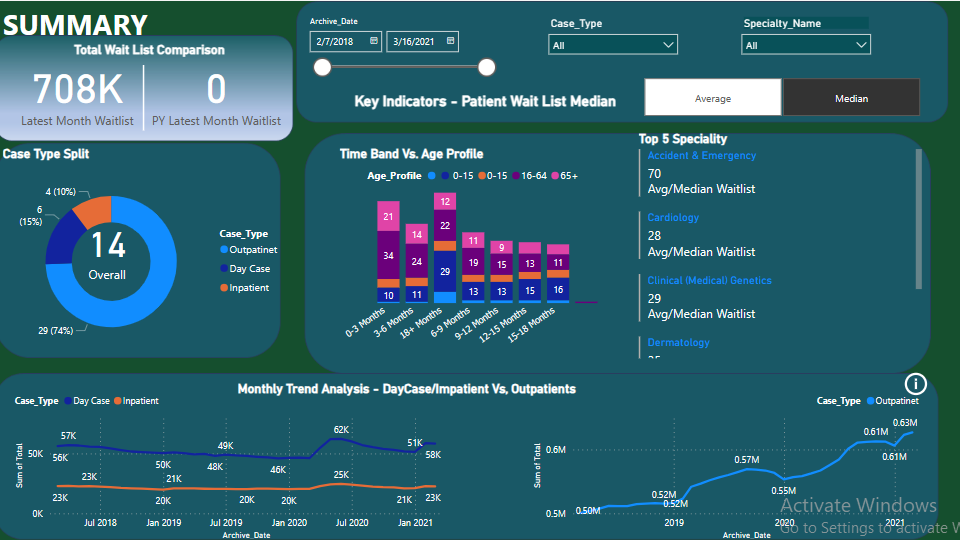

The dashboard page shown, as its layout file describes it:
{"tool":"powerbi","page":{"name":"Summary","canvas":[1280,720],"ordinal":0},"visuals":[{"type":"card","fields":{"Values":["All_Data.Latest Month Waitlist"]},"box":[0,48,208,144],"z":0},{"type":"card","fields":{"Values":["All_Data.PY Latest Month Waitlist"]},"box":[192,48,192,144],"z":1000},{"type":"slicer","fields":{"Values":["Calculation Method.Calc Method"]},"box":[832,96,416,64],"z":2000},{"type":"donutChart","title":"Case Type Split","fields":{"Category":["All_Data.Case_Type"],"Y":["All_Data.Avg/Median Waitlist"]},"box":[0,192,384,288],"z":3000},{"type":"columnChart","title":"Time Band Vs. Age Profile","fields":{"Category":["All_Data.Time_Bands"],"Y":["All_Data.Avg/Median Waitlist"],"Series":["All_Data.Age_Profile"]},"box":[448,192,368,288],"z":4000},{"type":"multiRowCard","title":"Top 5 Speciality","fields":{"Values":["All_Data.Specialty_Name","All_Data.Avg/Median Waitlist"]},"box":[844.9,173,386.4,307.4],"z":5000},{"type":"card","fields":{"Values":["All_Data.No Data Left"]},"box":[96.4,557,299.1,143.1],"z":6000},{"type":"lineChart","fields":{"Y":["Sum(All_Data.Total)"],"Category":["All_Data.Archive_Date"],"Series":["All_Data.Case_Type"]},"box":[15.6,511.7,592.4,208.3],"z":7000},{"type":"card","fields":{"Values":["All_Data.No Data Right"]},"box":[826.3,544.3,299.1,143.1],"z":8000},{"type":"lineChart","fields":{"Y":["Sum(All_Data.Total)"],"Category":["All_Data.Archive_Date"],"Series":["All_Data.Case_Type"]},"box":[704.4,511.7,527.2,208.3],"z":9000},{"type":"slicer","fields":{"Values":["All_Data.Archive_Date"]},"box":[400,16,272,112],"z":10000},{"type":"slicer","fields":{"Values":["All_Data.Case_Type"]},"box":[720,16,192,80],"z":11000},{"type":"slicer","fields":{"Values":["All_Data.Specialty_Name"]},"box":[976,16,192,80],"z":12000},{"type":"textbox","box":[0,0,240,80],"z":13000},{"type":"card","fields":{"Values":["All_Data.Avg/Median Waitlist"]},"box":[96,256,96,144],"z":14000},{"type":"shape","box":[42,85.7,299,87.3],"z":15000},{"type":"textbox","box":[312.4,498.9,655.1,30.2],"z":16000},{"type":"card","fields":{"Values":["All_Data.Dynamic Title"]},"box":[447.9,85,396.9,95],"z":17000},{"type":"textbox","box":[0,48.7,399.8,31.9],"z":18000},{"type":"actionButton","box":[1197.6,489,51,39.7],"z":19000}]}

Visuals, with their boxes in screenshot pixels (x1, y1, x2, y2), scaled from the page's 1280x720 canvas onto the 960x540 screenshot:
card - All_Data.Latest Month Waitlist: l=0, t=36, r=156, b=144
card - All_Data.PY Latest Month Waitlist: l=144, t=36, r=288, b=144
slicer - Calculation Method.Calc Method: l=624, t=72, r=936, b=120
"Case Type Split" donutChart: l=0, t=144, r=288, b=360
"Time Band Vs. Age Profile" columnChart: l=336, t=144, r=612, b=360
"Top 5 Speciality" multiRowCard: l=634, t=130, r=923, b=360
card - All_Data.No Data Left: l=72, t=418, r=297, b=525
lineChart - Sum(All_Data.Total) x All_Data.Archive_Date: l=12, t=384, r=456, b=539
card - All_Data.No Data Right: l=620, t=408, r=844, b=516
lineChart - Sum(All_Data.Total) x All_Data.Archive_Date: l=528, t=384, r=924, b=539
slicer - All_Data.Archive_Date: l=300, t=12, r=504, b=96
slicer - All_Data.Case_Type: l=540, t=12, r=684, b=72
slicer - All_Data.Specialty_Name: l=732, t=12, r=876, b=72
textbox: l=0, t=0, r=180, b=60
card - All_Data.Avg/Median Waitlist: l=72, t=192, r=144, b=300
shape: l=32, t=64, r=256, b=130
textbox: l=234, t=374, r=726, b=397
card - All_Data.Dynamic Title: l=336, t=64, r=634, b=135
textbox: l=0, t=37, r=300, b=60
actionButton: l=898, t=367, r=936, b=397
